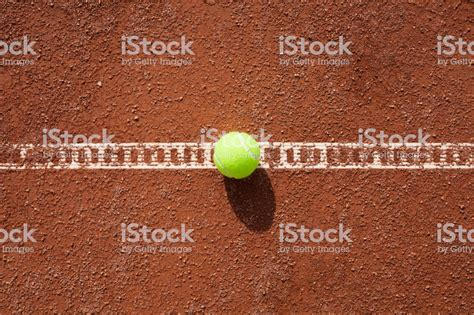tennis_ball: (213, 131, 260, 178)
